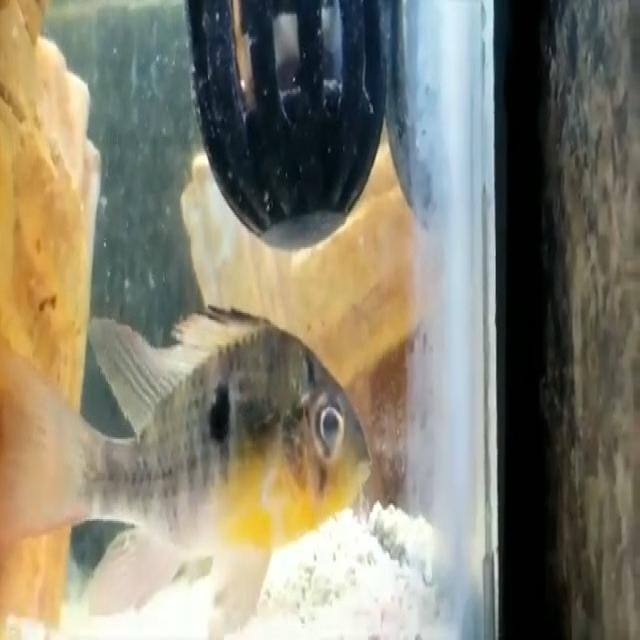fish: (2, 301, 382, 640)
